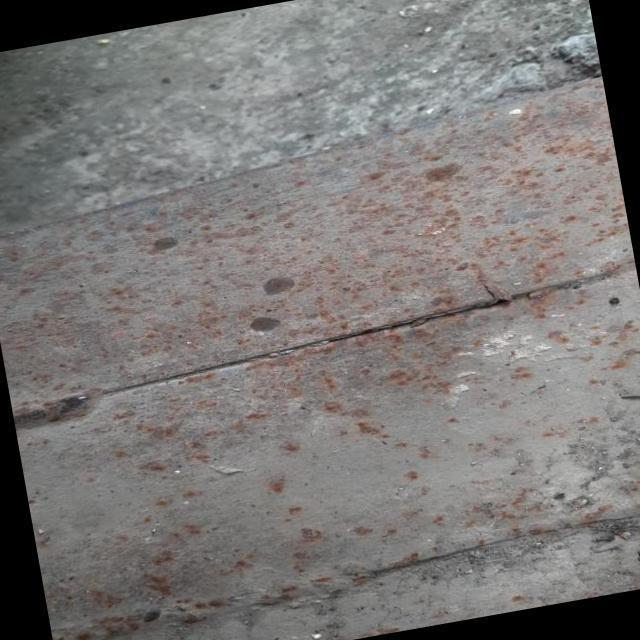defect: (299, 278, 526, 349)
